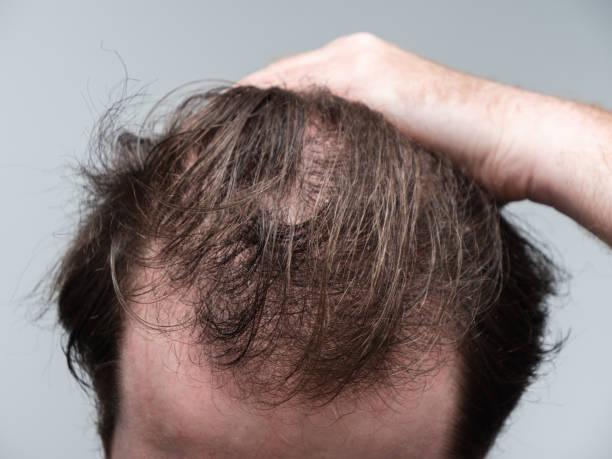dandruff: (362, 243, 376, 253), (320, 199, 338, 205)
